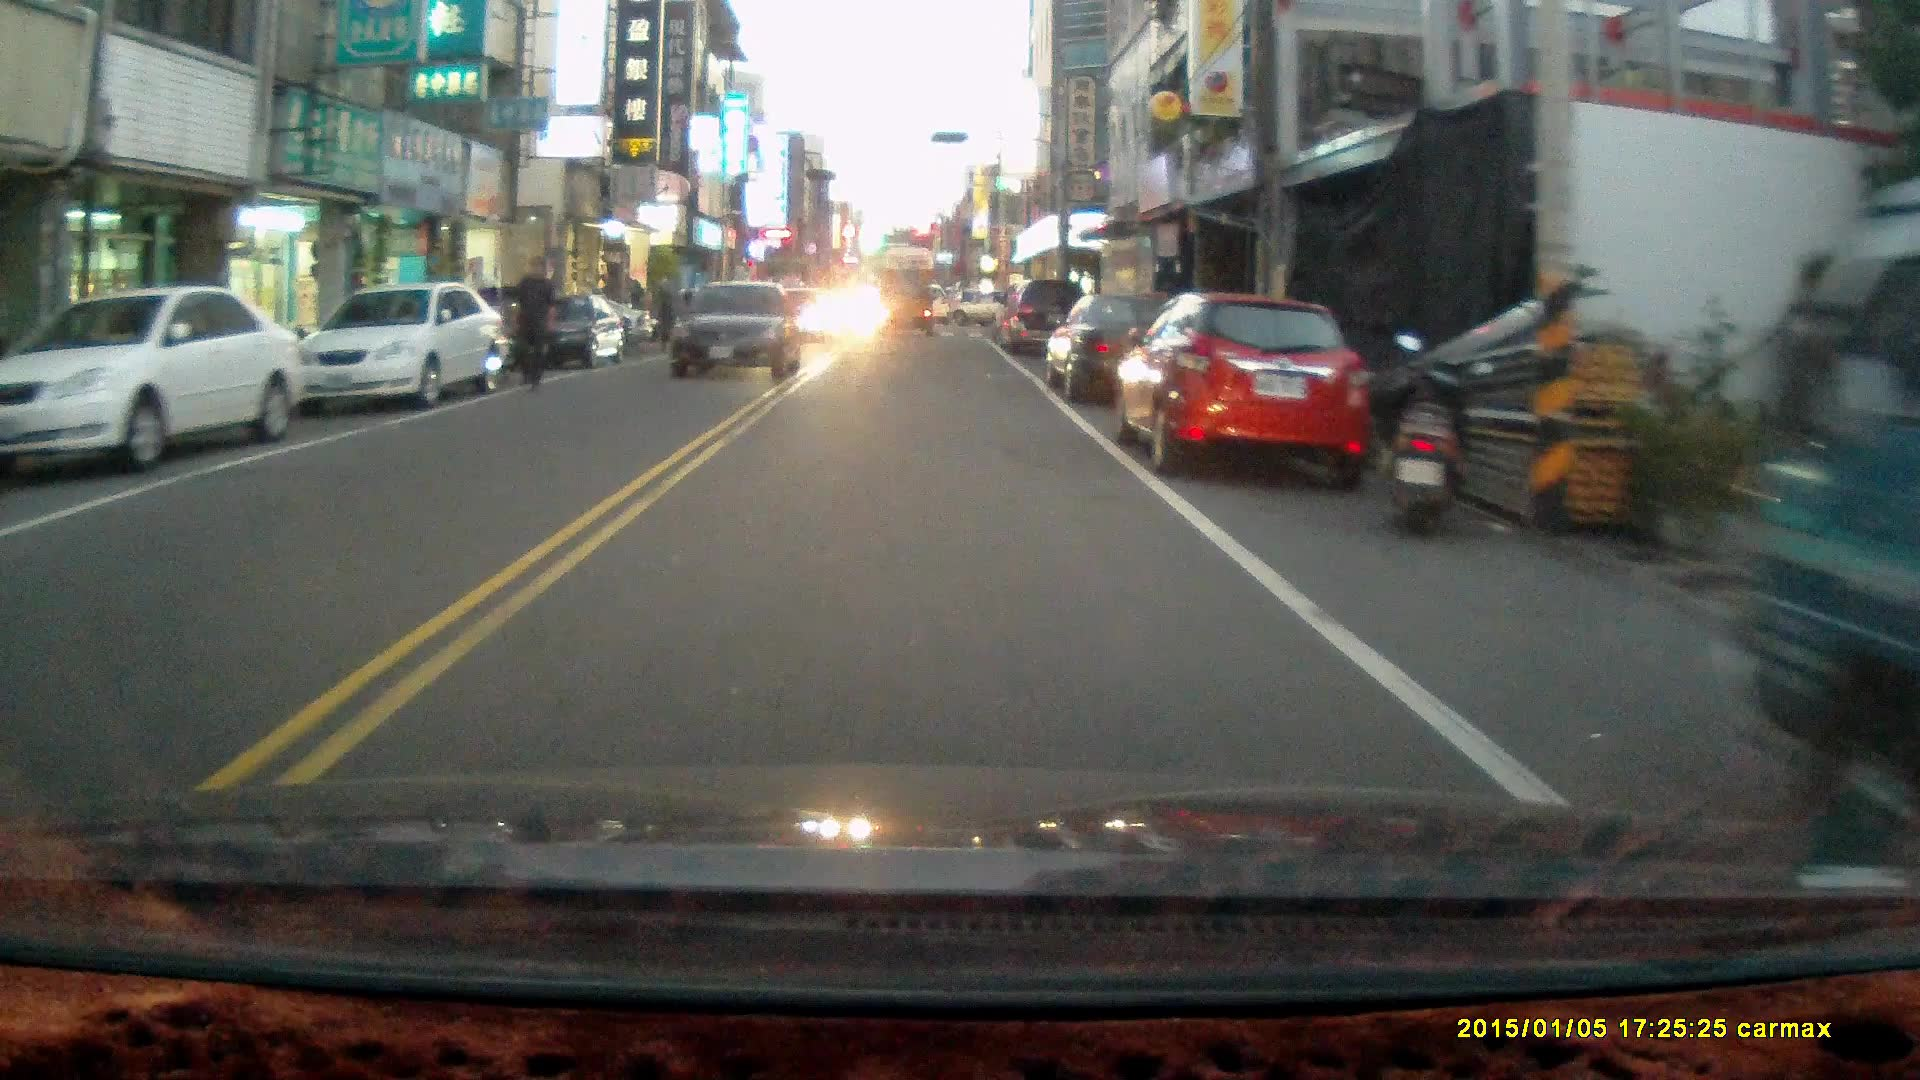pedestrian: (506, 257, 557, 394), (652, 276, 679, 351)
vehicle: (2, 287, 309, 473), (1118, 301, 1376, 493), (300, 291, 511, 419), (1039, 297, 1219, 408), (666, 280, 807, 387), (518, 293, 624, 377), (990, 279, 1097, 362), (874, 267, 937, 336)
